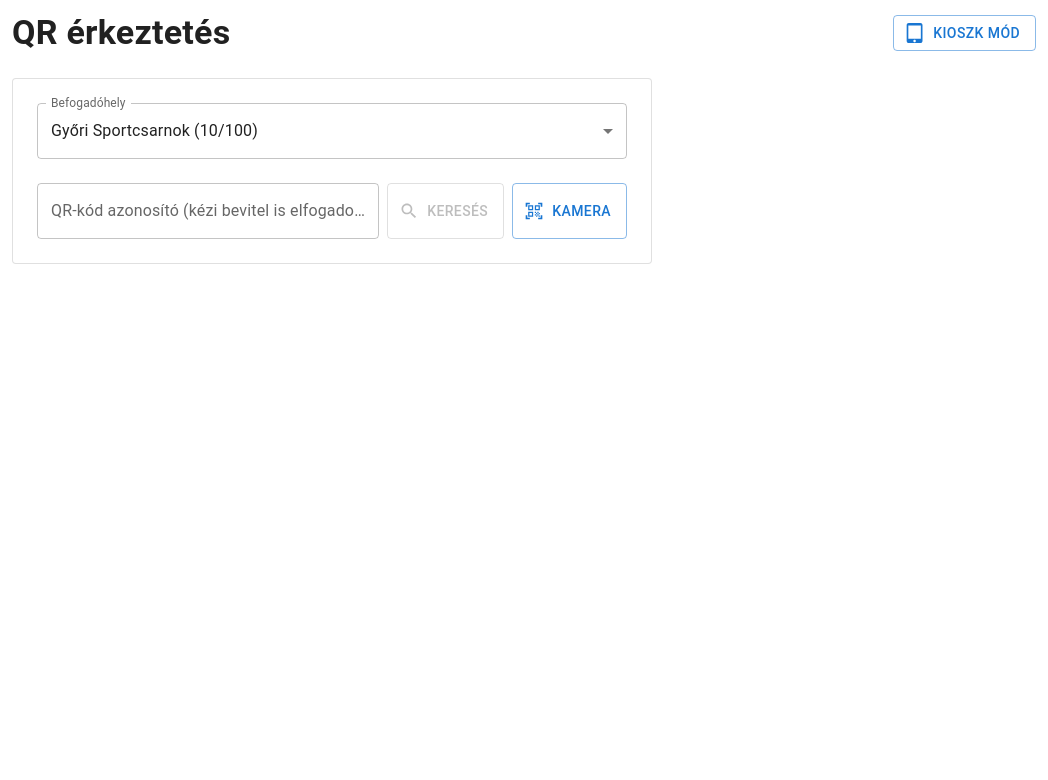
Scenario: QrCheckInPage › azonosító keresésekor betölti és megjeleníti a személy adatait
Type "PUB-123" into the field labelled "QR-kód azonosító (kézi bevitel is elfogadott)" at (208, 211), box [37, 183, 379, 239]
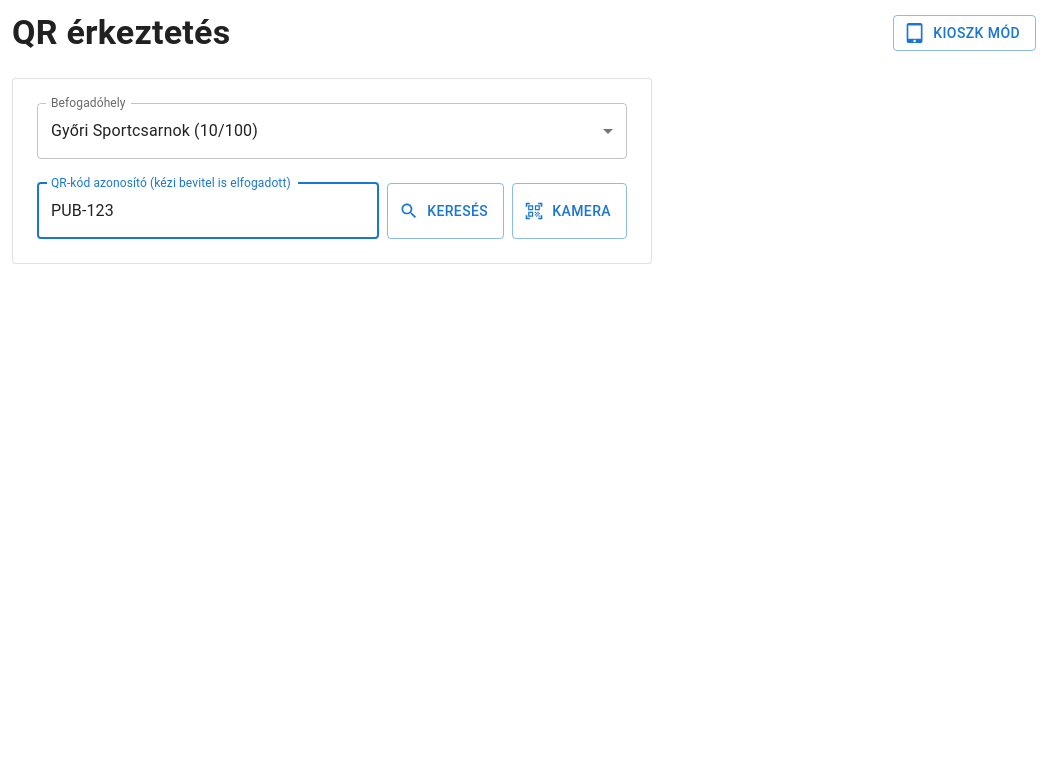
Click the button "Keresés" at (446, 211), box [387, 183, 504, 239]
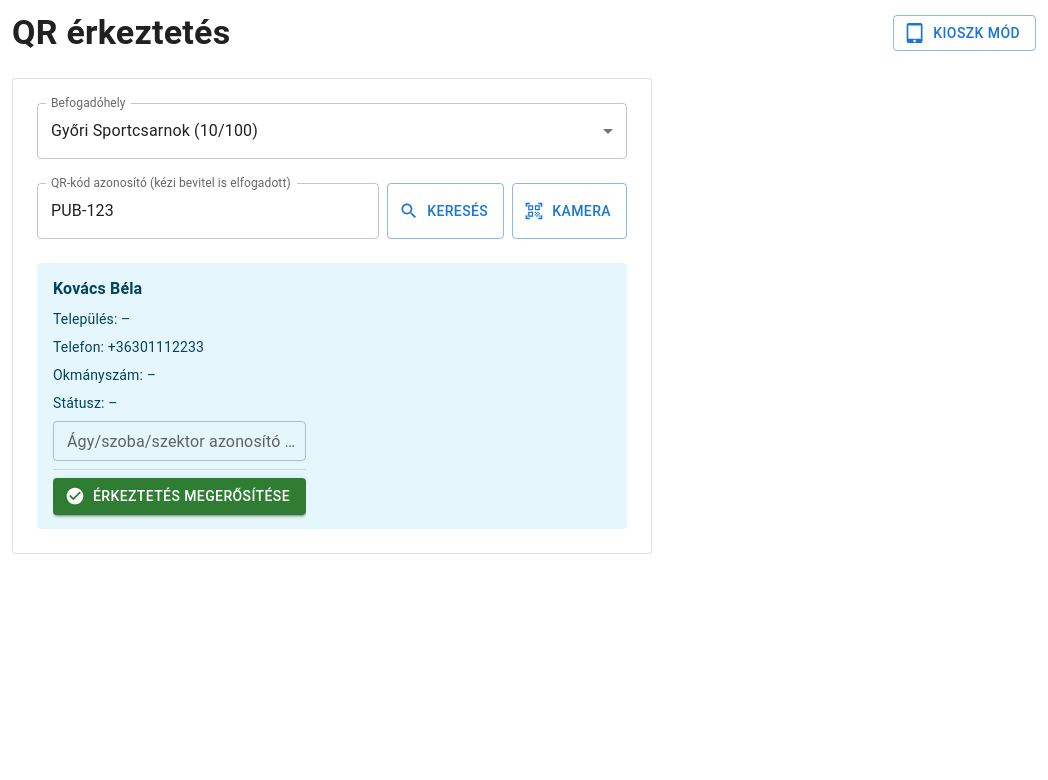
Now the text "Kovács Béla" is shown, box [53, 279, 142, 298]
Now the text "Telefon: +36301112233" is shown, box [53, 339, 204, 355]
